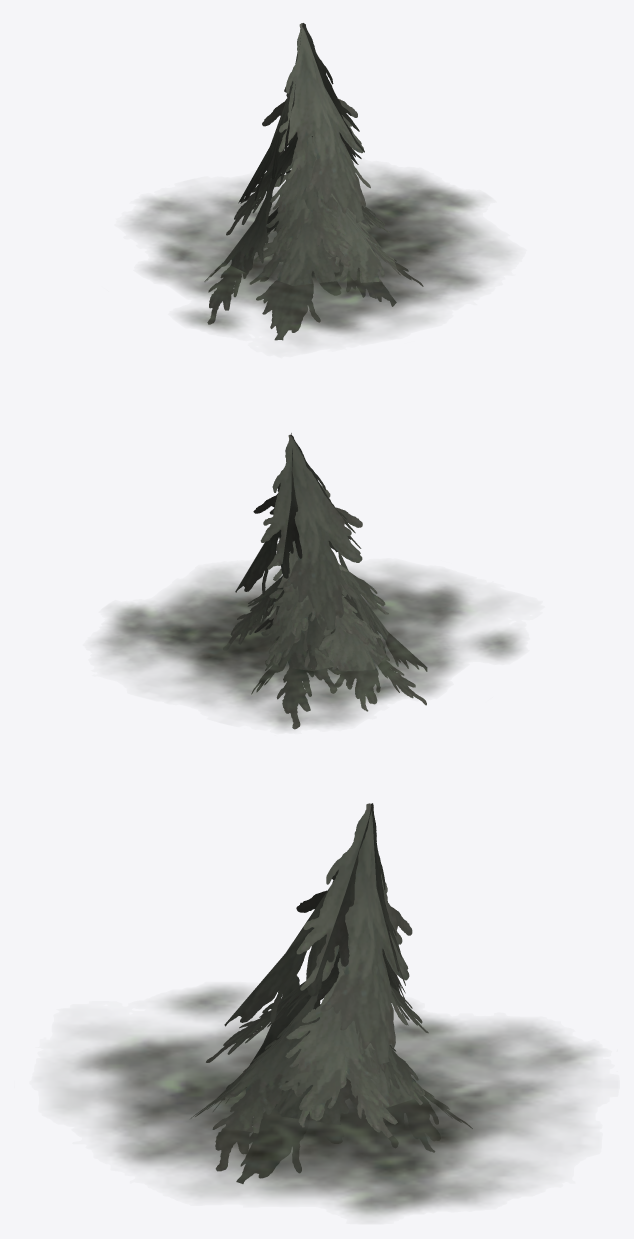
The picture shows the model from 3 angles, top to bottom: view 1: azimuth 30°, elevation 25°; view 2: azimuth 150°, elevation 25°; view 3: azimuth 270°, elevation 25°; orthographic projection. The views are drawn at different scales.
Parts seen in each view (by area): view 1: plants_fir_small_a-1-underlay, plants_fir_small_a-0-plant; view 2: plants_fir_small_a-1-underlay, plants_fir_small_a-0-plant; view 3: plants_fir_small_a-1-underlay, plants_fir_small_a-0-plant.
Boxes of the visible parts, box(x1,y1,x2,y2) form: plants_fir_small_a-1-underlay: box(129, 169, 509, 342); plants_fir_small_a-0-plant: box(204, 23, 423, 340); plants_fir_small_a-1-underlay: box(97, 565, 521, 728); plants_fir_small_a-0-plant: box(228, 433, 427, 729); plants_fir_small_a-1-underlay: box(57, 986, 593, 1216); plants_fir_small_a-0-plant: box(193, 803, 472, 1183).
Bounding box in the file's own units: 4.5 × 3.02 × 4.5.
2 materials, 2 textured.
